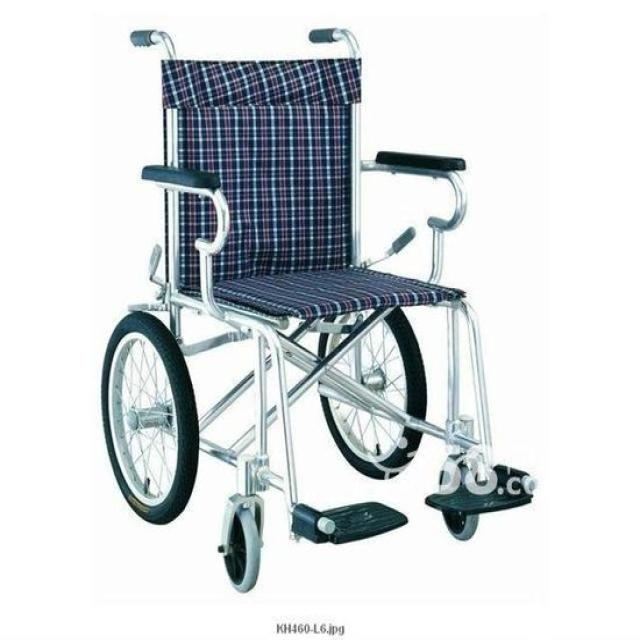wheelchairs: (94, 4, 539, 594)
